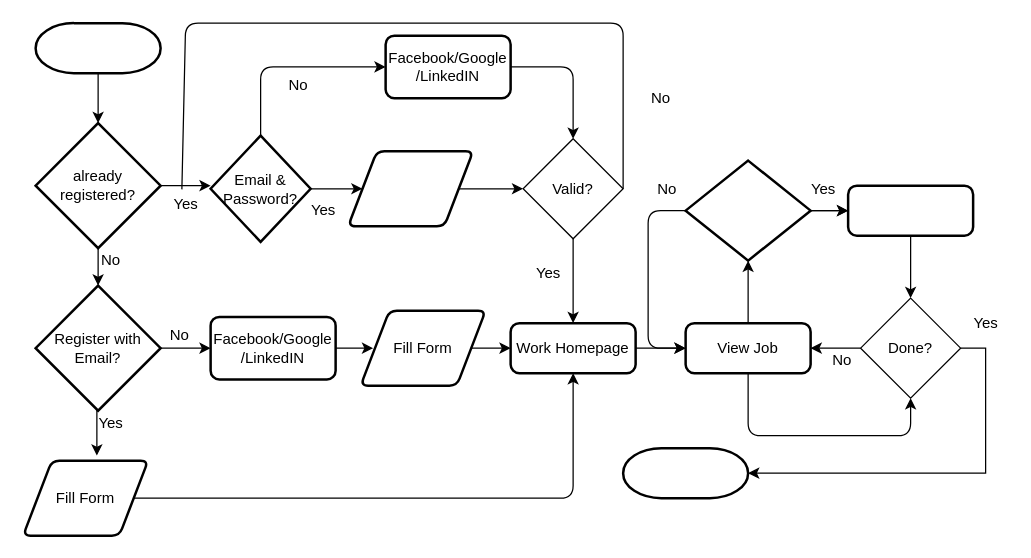
Some shapes in this 1031 by 558 pixel diagram are drawn without their labels. Here are the shapes that lost their labels. From the top down, the centre of each, then its label:
At [97,47]: "Start".
At [410,188]: "Fill E-Mail & Password".
At [747,210]: "Interested?".
At [910,210]: "Apply".
At [685,472]: "End".
